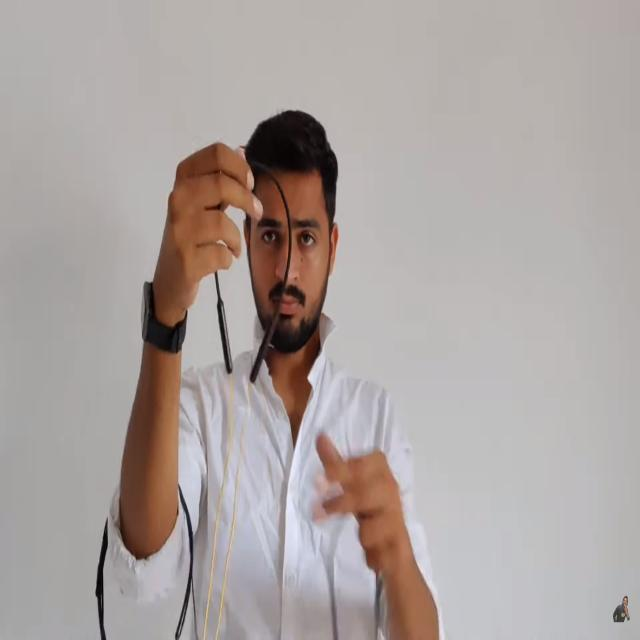Neckband: (203, 158, 292, 640)
